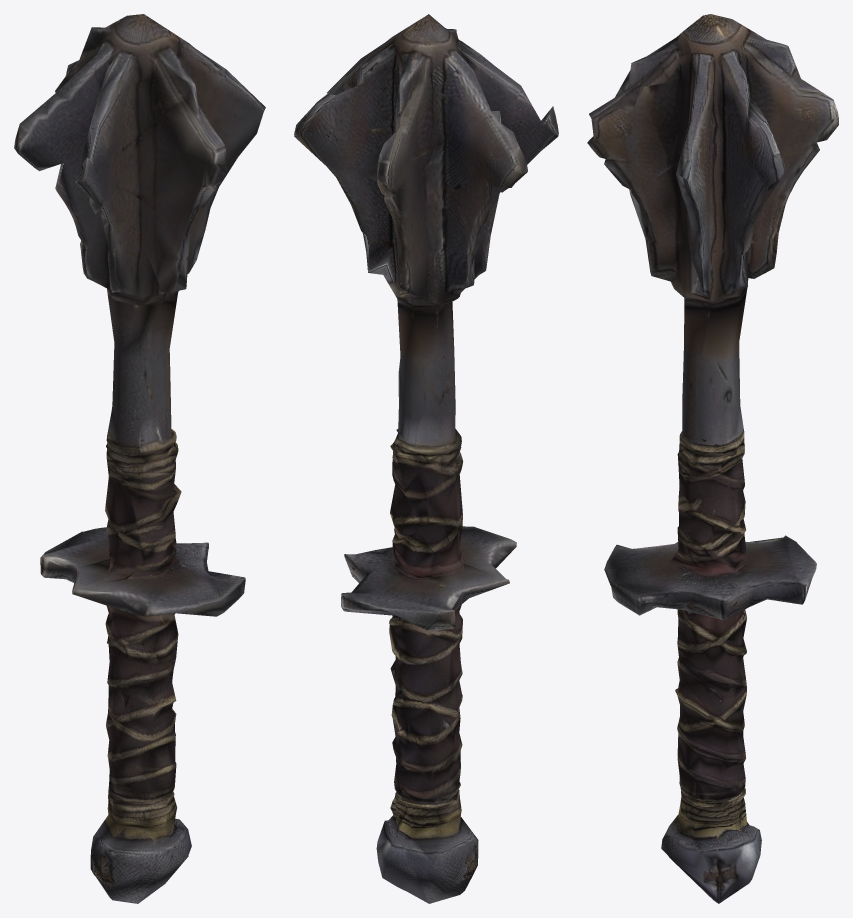
Rendered from 1485_mace.glb.
The picture shows the model from 3 angles, left to right: view 1: azimuth 30°, elevation 25°; view 2: azimuth 150°, elevation 25°; view 3: azimuth 270°, elevation 25°; orthographic projection.
Visible parts, largest first — view 1: Model; view 2: Model; view 3: Model.
Boxes of the visible parts, left/top/right/bottom form: Model: left=14, top=14, right=265, bottom=903; Model: left=294, top=14, right=558, bottom=903; Model: left=587, top=14, right=838, bottom=903.
Bounding box in the file's own units: 0.2657 × 1 × 0.2569.
Materials: 1 (1 with a texture image).
